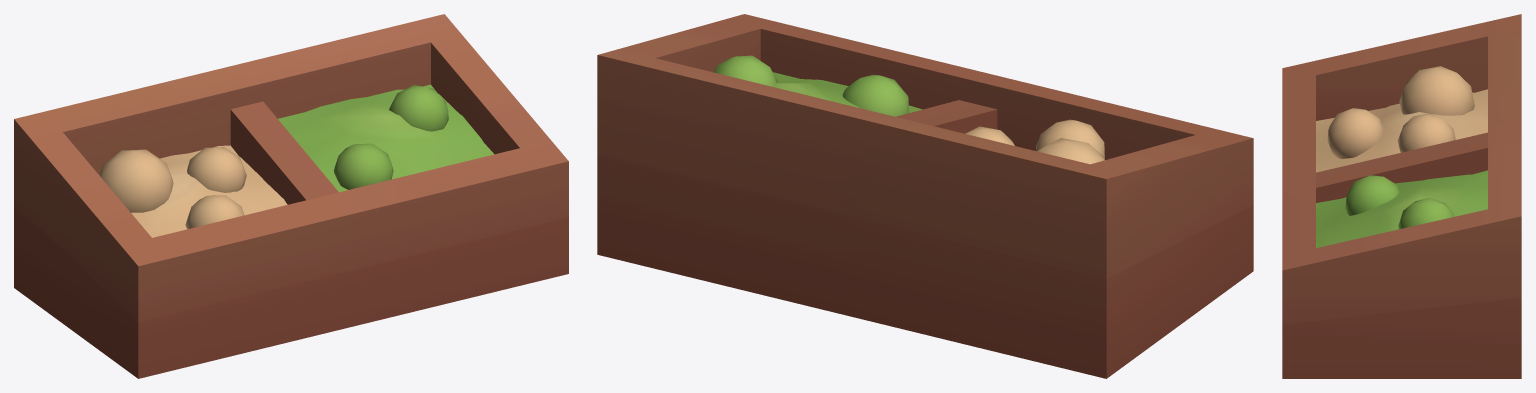
File: kay-caixote-comprido-b.gltf
3 views of the same model, side by side, from view 1: azimuth 30°, elevation 25°; view 2: azimuth 150°, elevation 25°; view 3: azimuth 270°, elevation 25° (orthographic). The views are drawn at different scales.
Visible parts, largest first — view 1: crate_long_B; view 2: crate_long_B; view 3: crate_long_B.
Part boxes in pixels (<box>): crate_long_B: <box>14,14,568,378</box>; crate_long_B: <box>597,14,1253,378</box>; crate_long_B: <box>1282,14,1521,378</box>.
Size of the model in its own units: 2 by 0.7501 by 1.
Materials: 1 (1 with a texture image).
